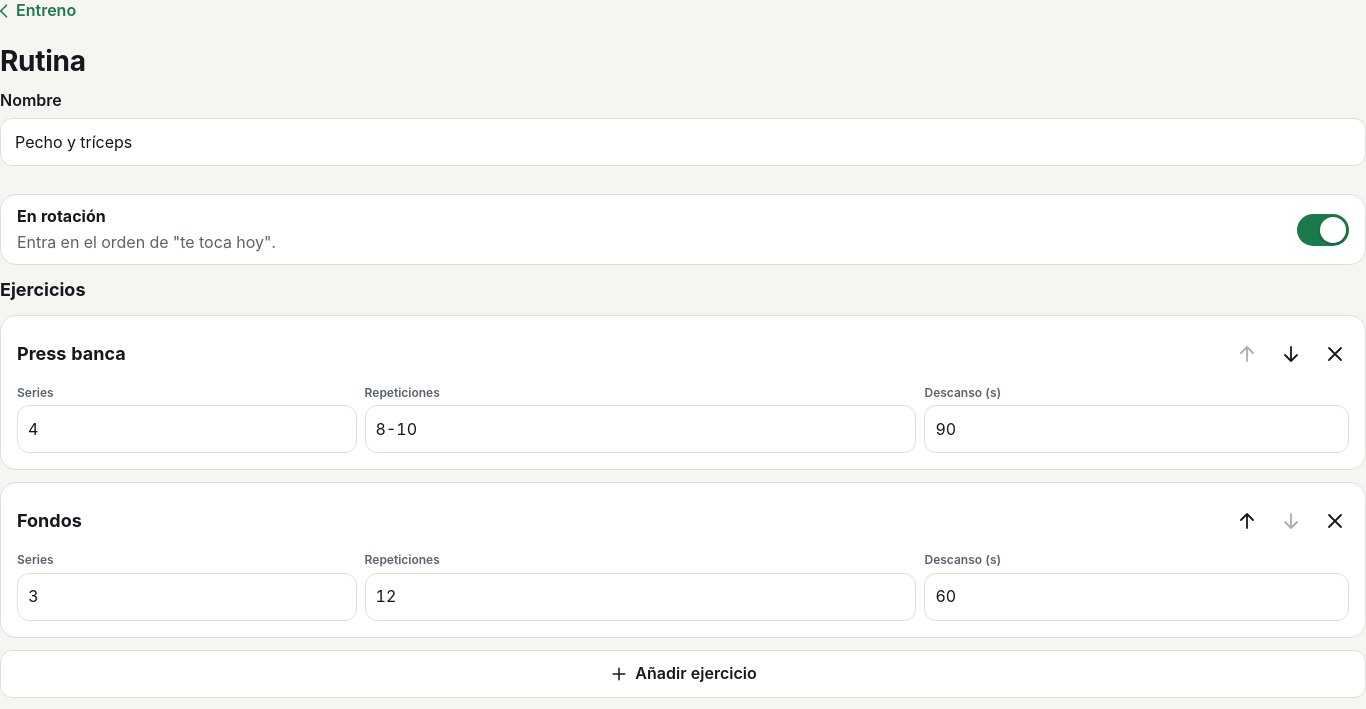
Editor de rutina: guardar › guarda el nombre, las series, el objetivo y el descanso editados (el descanso admite 0)
The image size is (1366, 709).
Replace the text in the field labelled "Nombre" with "  Pecho pesado  " at (683, 142), box left=0, top=118, right=1365, bottom=166
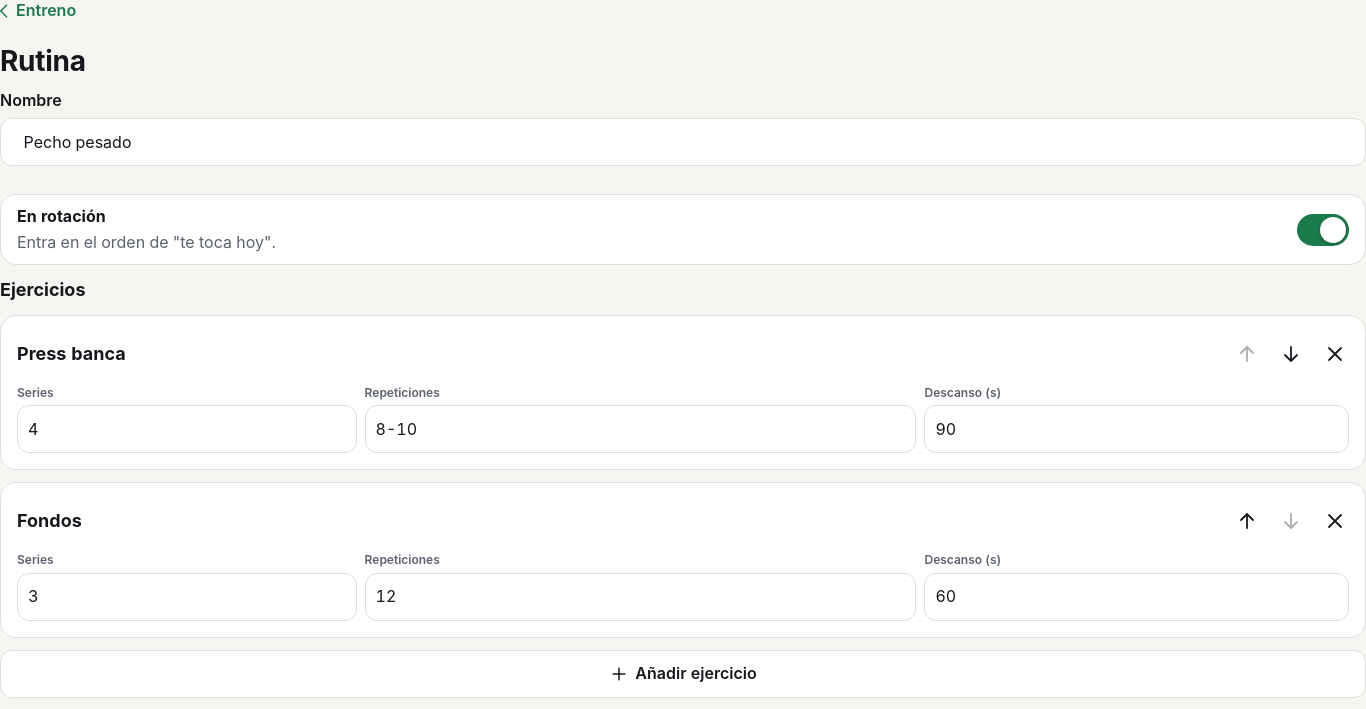
Replace the text in the field named "Series de Press banca" with "5" at (187, 429), box left=17, top=405, right=357, bottom=453
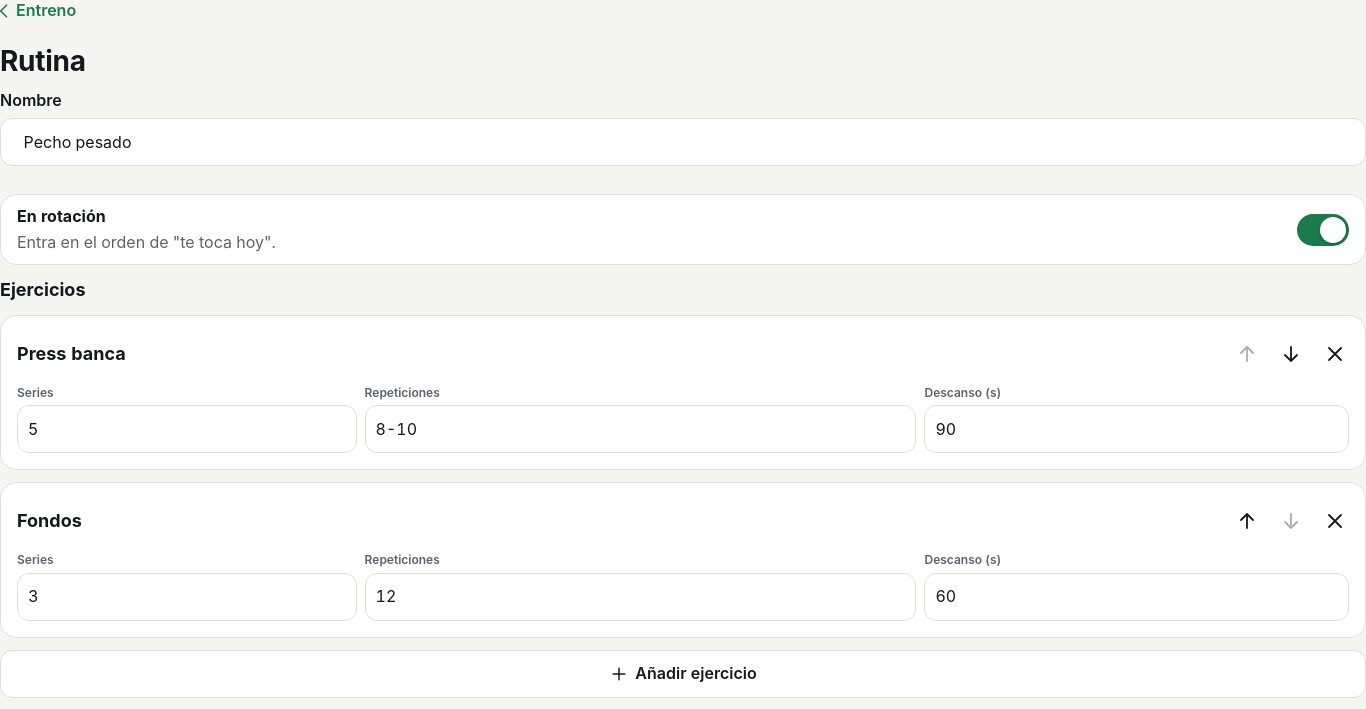
Replace the text in the field named "Repeticiones de Press banca" with "5" at (641, 429), box left=365, top=405, right=916, bottom=453
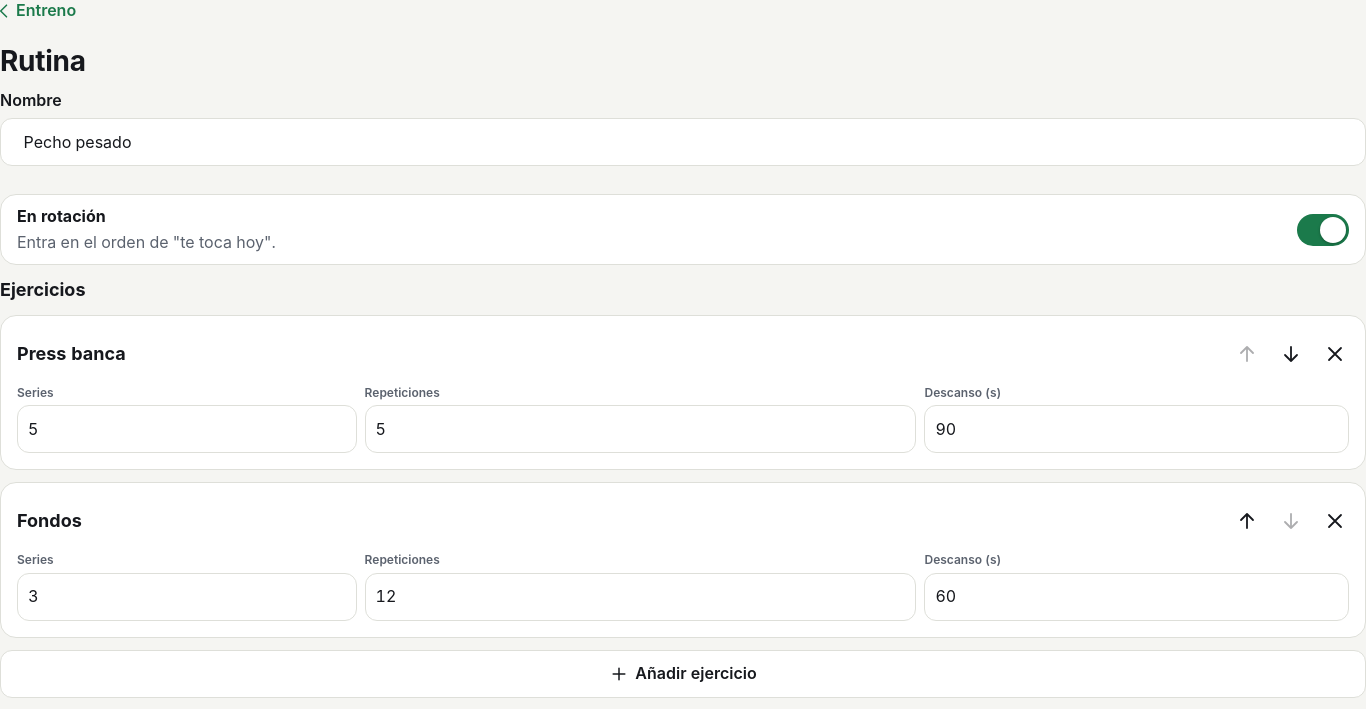
Replace the text in the field named "Descanso de Press banca (s)" with "0" at (1137, 429), box left=924, top=405, right=1349, bottom=453
(page scrolled)
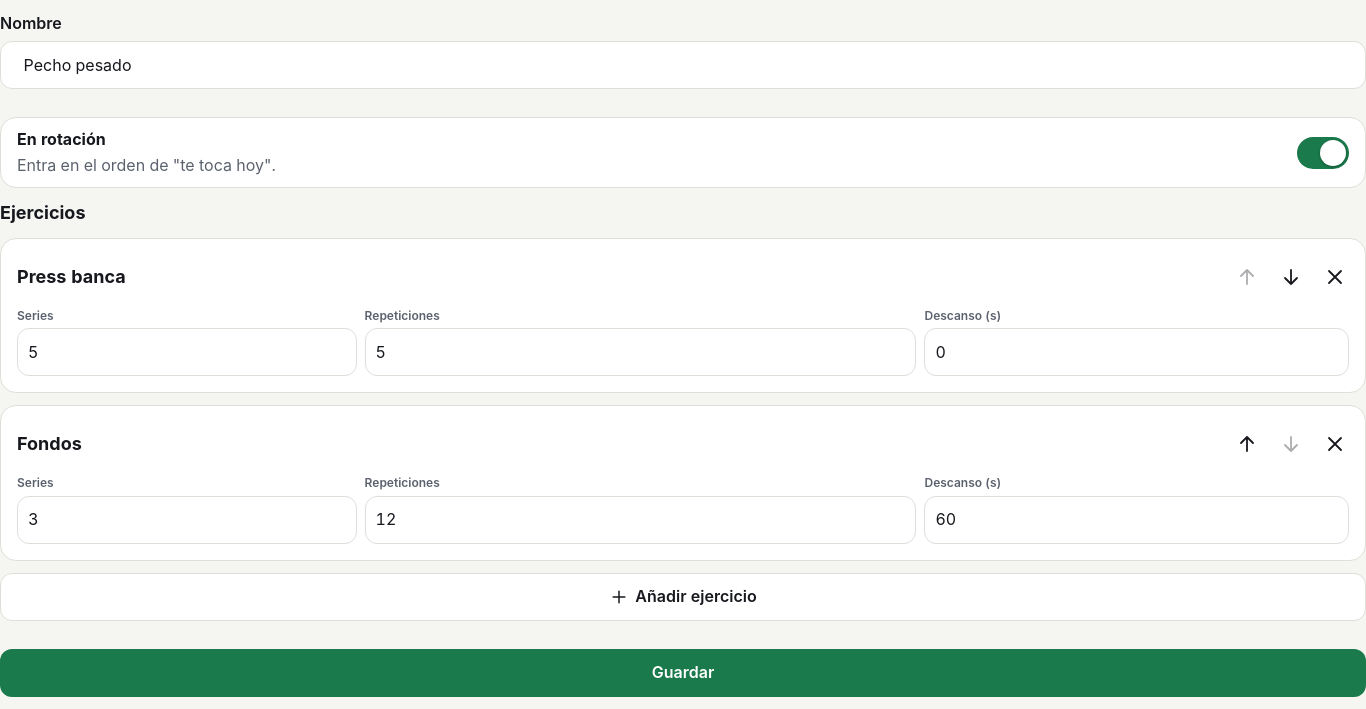
Click the button "Guardar" at (683, 673), box left=0, top=649, right=1365, bottom=697
(page scrolled)
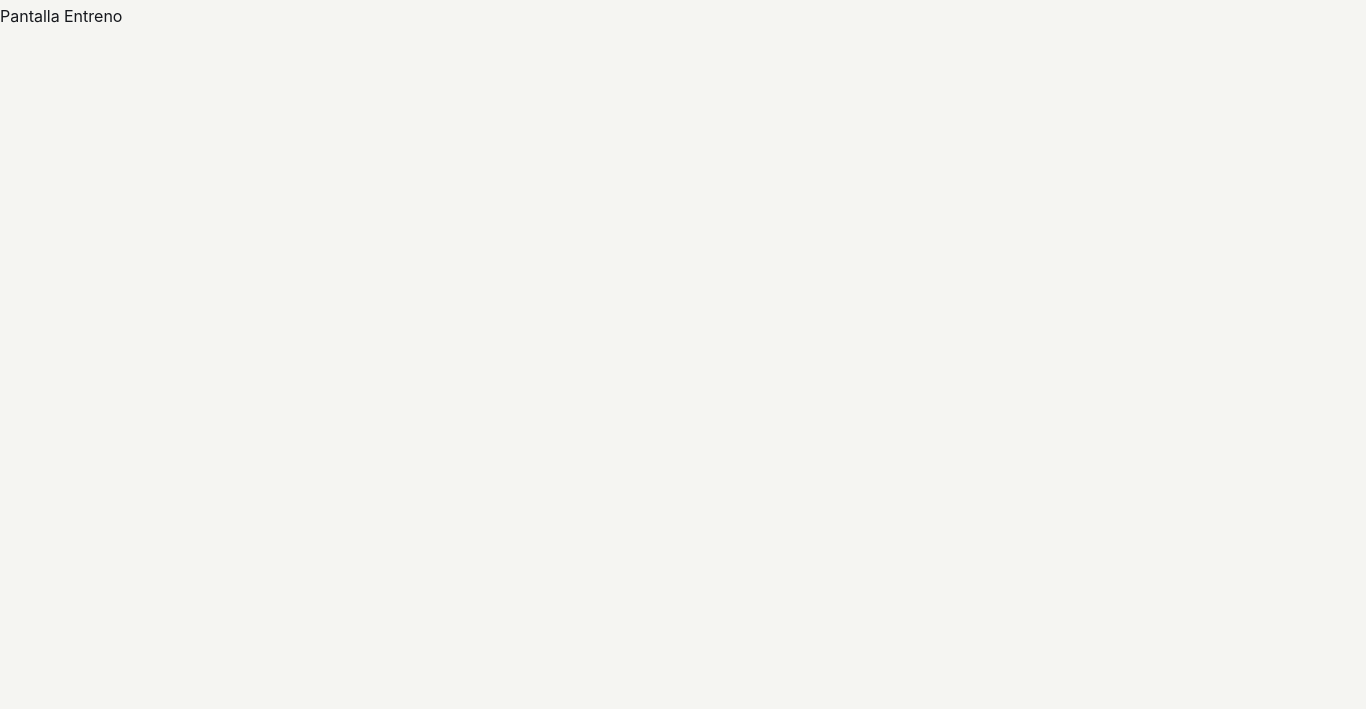
Expected: the text "Pantalla Entreno" is shown, left=0, top=6, right=122, bottom=26
